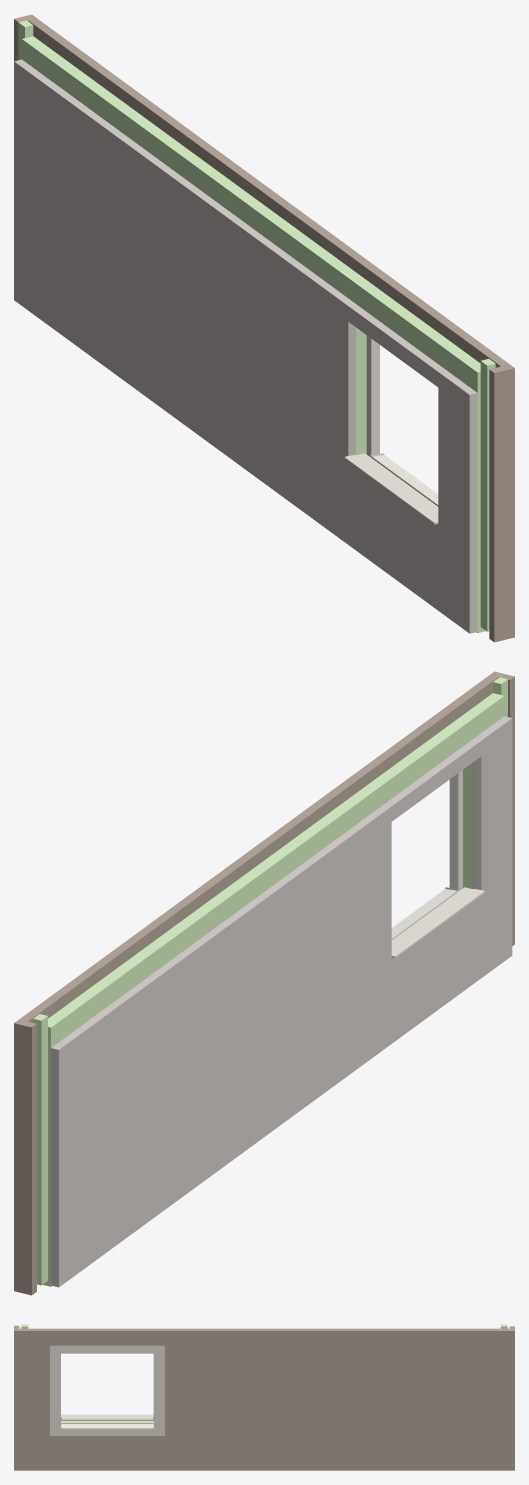
The picture shows the model from 3 angles, top to bottom: view 1: azimuth 30°, elevation 25°; view 2: azimuth 150°, elevation 25°; view 3: azimuth 270°, elevation 25°; orthographic projection. The views are drawn at different scales.
Visible parts, largest first — view 1: [8680057]21_prefab betonwand 90mm, [8680059]21_isolatie 131mm, [8680066]21_Metselwerk Sonsbeek 100mm, Aberson 48N13, [8680068]21_Metselwerk Sonsbeek 100mm, Aberson 48N13, [8680064]21_isolatie 131mm, [8680063]Merk B_Ventserbank, [8680707]21_Metselwerk Wit HV WF 100 mm, Aberson 35N17, [8680062]Merk B_Waterslag; view 2: [8680057]21_prefab betonwand 90mm, [8680059]21_isolatie 131mm, [8680066]21_Metselwerk Sonsbeek 100mm, Aberson 48N13, [8680067]21_Metselwerk Sonsbeek 100mm, Aberson 48N13, [8680065]21_isolatie 131mm, [8680063]Merk B_Ventserbank, [8680706]21_Metselwerk Wit HV WF 100 mm, Aberson 35N17, [8680068]21_Metselwerk Sonsbeek 100mm, Aberson 48N13, [8680062]Merk B_Waterslag; view 3: [8680066]21_Metselwerk Sonsbeek 100mm, Aberson 48N13, [8680704]21_Metselwerk Wit HV WF 100 mm, Aberson 35N17 Rolla, [8680068]21_Metselwerk Sonsbeek 100mm, Aberson 48N13, [8680067]21_Metselwerk Sonsbeek 100mm, Aberson 48N13, [8680706]21_Metselwerk Wit HV WF 100 mm, Aberson 35N17, [8680707]21_Metselwerk Wit HV WF 100 mm, Aberson 35N17, [8680861]21_Metselwerk Wit HV WF 100 mm, Aberson 35N17 Rolla, [8680062]Merk B_Waterslag, [8680063]Merk B_Ventserbank, [8680059]21_isolatie 131mm.
Part boxes in pixels (<box>): [8680057]21_prefab betonwand 90mm: <box>14,59,477,633</box>; [8680059]21_isolatie 131mm: <box>22,36,485,632</box>; [8680066]21_Metselwerk Sonsbeek 100mm, Aberson 48N13: <box>28,18,509,367</box>; [8680068]21_Metselwerk Sonsbeek 100mm, Aberson 48N13: <box>489,364,514,642</box>; [8680064]21_isolatie 131mm: <box>480,359,495,631</box>; [8680063]Merk B_Ventserbank: <box>344,453,438,524</box>; [8680707]21_Metselwerk Wit HV WF 100 mm, Aberson 35N17: <box>366,335,379,456</box>; [8680062]Merk B_Waterslag: <box>370,453,438,506</box>; [8680057]21_prefab betonwand 90mm: <box>51,716,512,1287</box>; [8680059]21_isolatie 131mm: <box>42,693,504,1286</box>; [8680066]21_Metselwerk Sonsbeek 100mm, Aberson 48N13: <box>19,675,498,1022</box>; [8680067]21_Metselwerk Sonsbeek 100mm, Aberson 48N13: <box>14,1019,36,1295</box>; [8680065]21_isolatie 131mm: <box>33,1014,47,1285</box>; [8680063]Merk B_Ventserbank: <box>391,887,484,958</box>; [8680706]21_Metselwerk Wit HV WF 100 mm, Aberson 35N17: <box>449,770,462,890</box>; [8680068]21_Metselwerk Sonsbeek 100mm, Aberson 48N13: <box>489,671,514,945</box>; [8680062]Merk B_Waterslag: <box>391,887,459,940</box>; [8680066]21_Metselwerk Sonsbeek 100mm, Aberson 48N13: <box>19,1328,509,1470</box>; [8680704]21_Metselwerk Wit HV WF 100 mm, Aberson 35N17 Rolla: <box>50,1345,164,1353</box>; [8680068]21_Metselwerk Sonsbeek 100mm, Aberson 48N13: <box>14,1325,19,1470</box>; [8680067]21_Metselwerk Sonsbeek 100mm, Aberson 48N13: <box>509,1326,514,1470</box>; [8680706]21_Metselwerk Wit HV WF 100 mm, Aberson 35N17: <box>50,1353,60,1427</box>; [8680707]21_Metselwerk Wit HV WF 100 mm, Aberson 35N17: <box>154,1353,164,1427</box>; [8680861]21_Metselwerk Wit HV WF 100 mm, Aberson 35N17 Rolla: <box>50,1426,164,1435</box>; [8680062]Merk B_Waterslag: <box>61,1423,153,1429</box>; [8680063]Merk B_Ventserbank: <box>61,1414,153,1420</box>; [8680059]21_isolatie 131mm: <box>61,1421,153,1425</box>.
Size of the model in its own units: 0.45 by 2.96 by 9.54.
